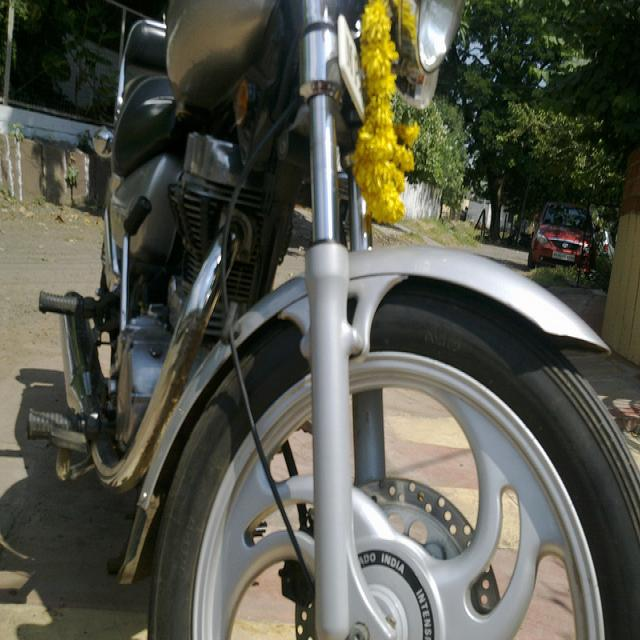motor: (25, 91, 640, 640), (120, 2, 464, 104)
